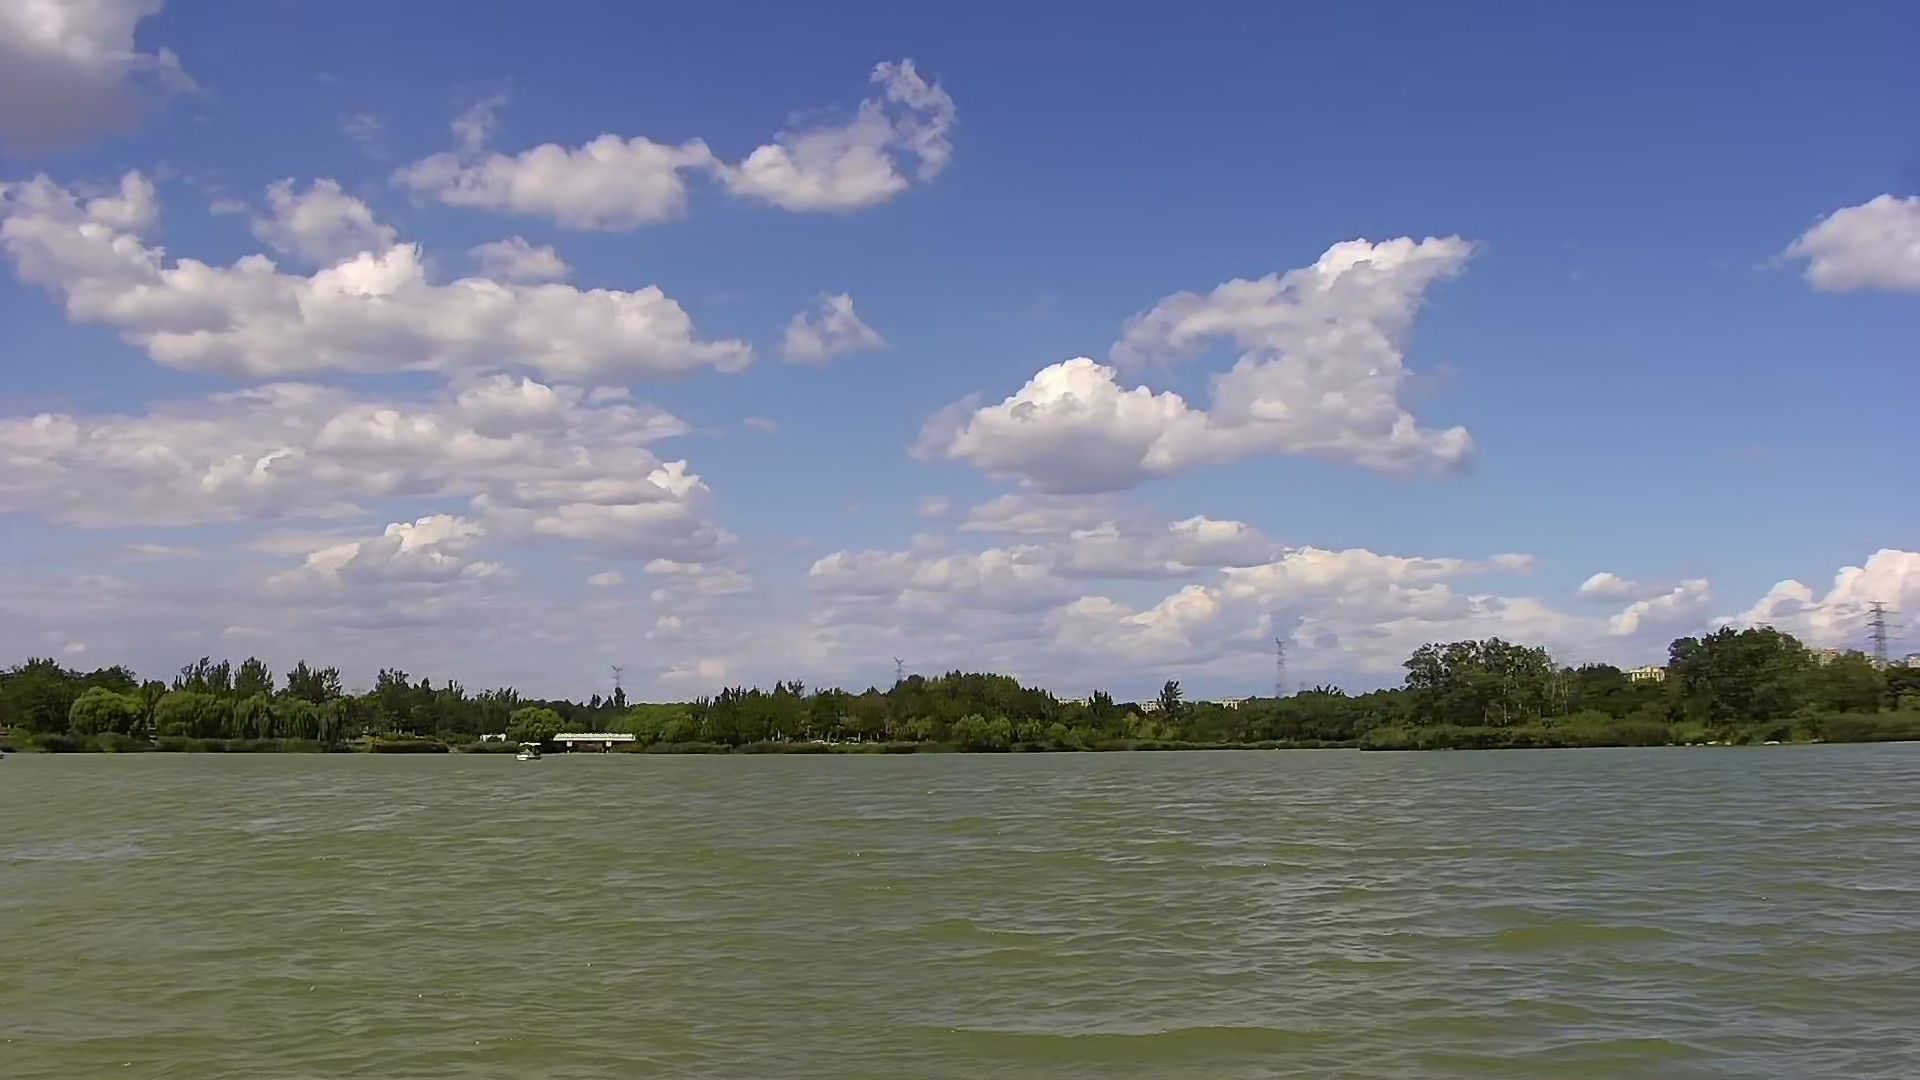boat: (509, 732, 563, 760)
bridge: (545, 724, 644, 754)
